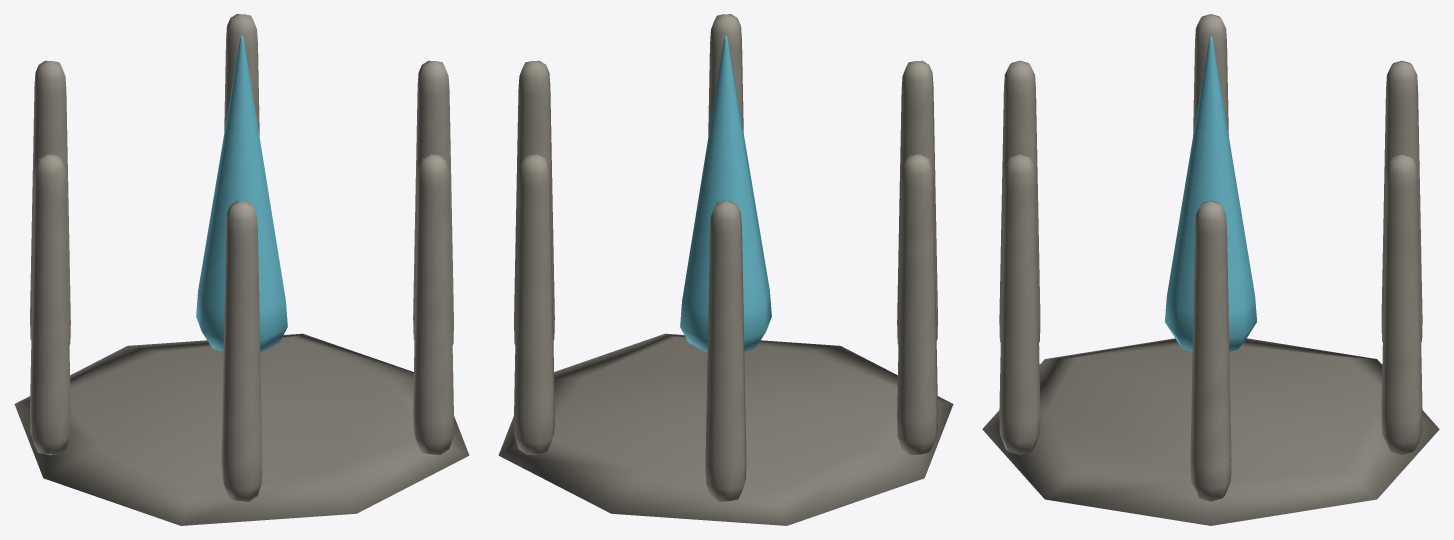
Rendered from SM_Shrine.fbx.
The picture shows the model from 3 angles, left to right: view 1: azimuth 30°, elevation 25°; view 2: azimuth 150°, elevation 25°; view 3: azimuth 270°, elevation 25°; orthographic projection.
Parts seen in each view (by area): view 1: SM_Shrine; view 2: SM_Shrine; view 3: SM_Shrine.
Part boxes in pixels (x1,y1,x2,y2): SM_Shrine: (14, 14, 469, 525); SM_Shrine: (498, 14, 953, 525); SM_Shrine: (982, 14, 1439, 525).
Bounding box in the file's own units: 3.72 × 3.55 × 3.53.
